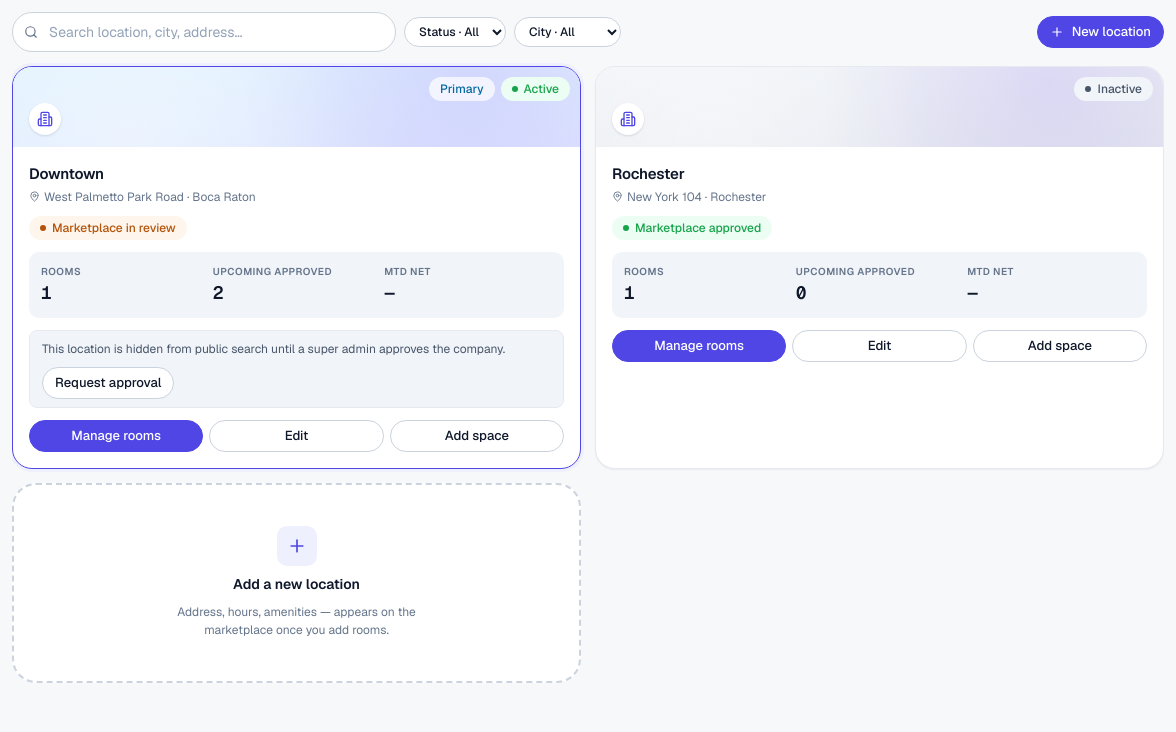
Test: LocationList › shows corrected card metrics, actions, and functional filters
Check: the text "Downtown" is shown, box top-left (29, 164), bottom-right (104, 183)
Check: the text "Upcoming approved" below "Marketplace in review" is shown, box top-left (213, 264), bottom-right (332, 278)
Select "Inactive" in the dropdown named "Filter locations by status" at (455, 32), box top-left (404, 17), bottom-right (506, 47)
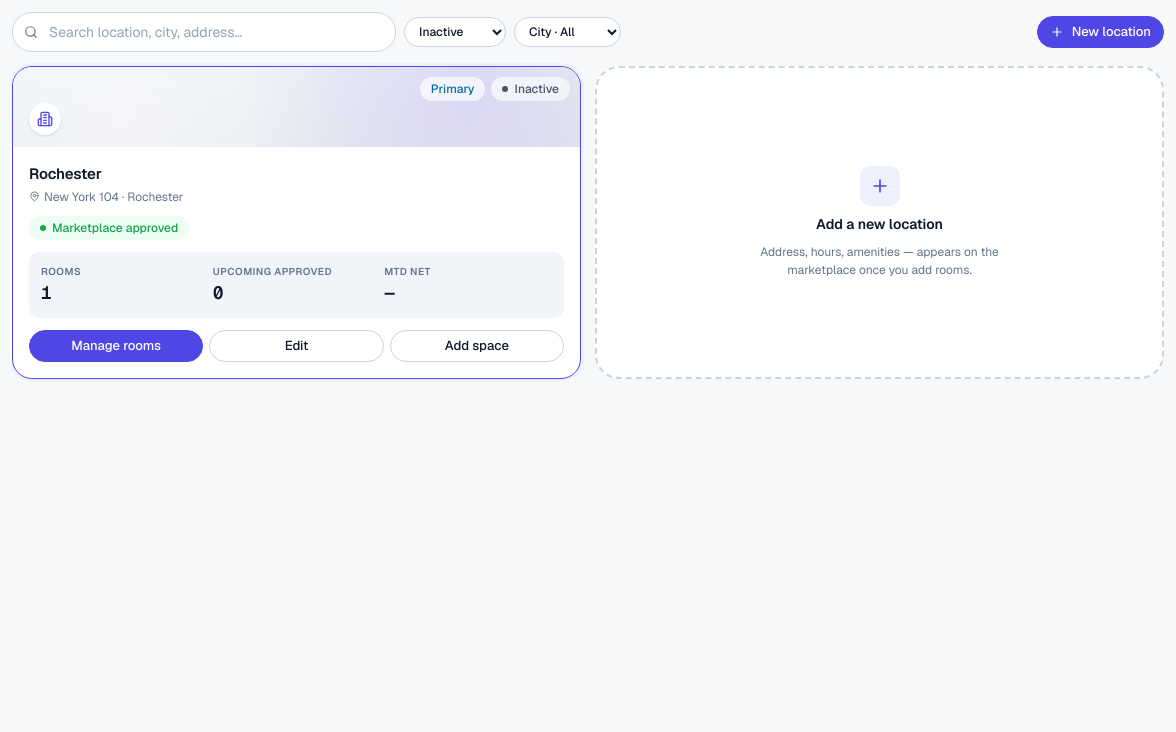
Check: the text "Rochester" is shown, box top-left (29, 164), bottom-right (102, 183)
Check: the text "Downtown" is gone
Select "Status · All" in the dropdown named "Filter locations by status" at (455, 32), box top-left (404, 17), bottom-right (506, 47)
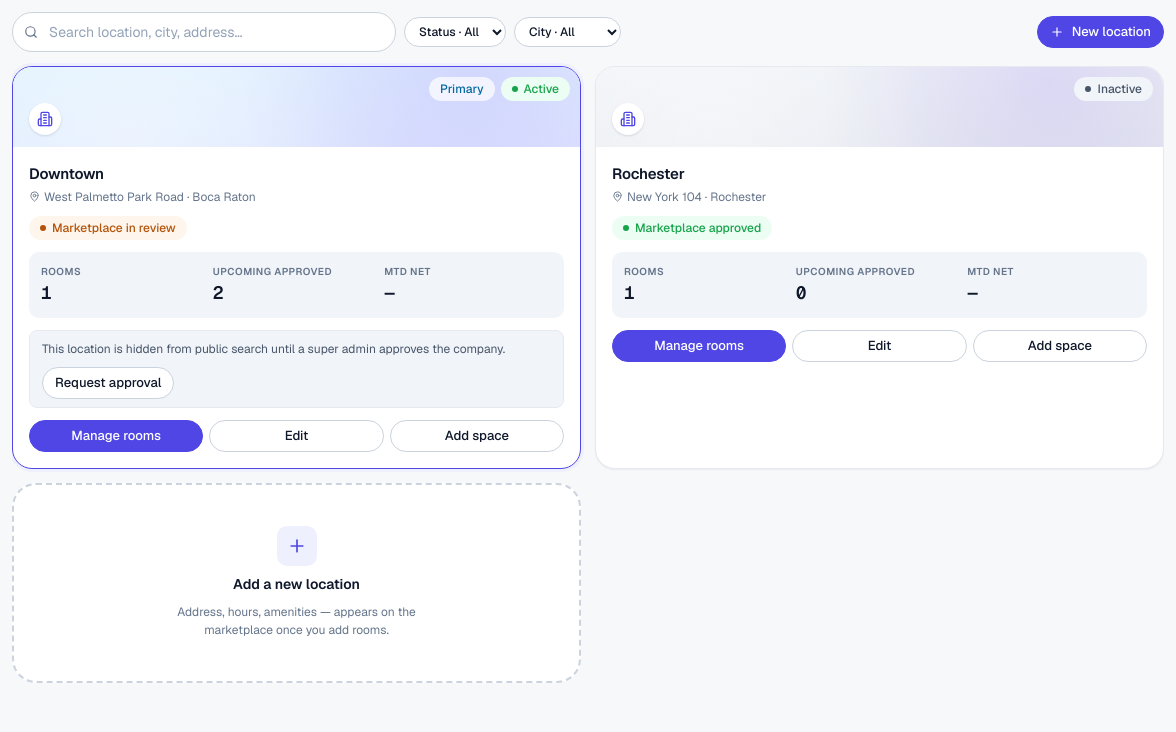
Select "Boca Raton" in the dropdown named "Filter locations by city" at (568, 32), box top-left (514, 17), bottom-right (621, 47)
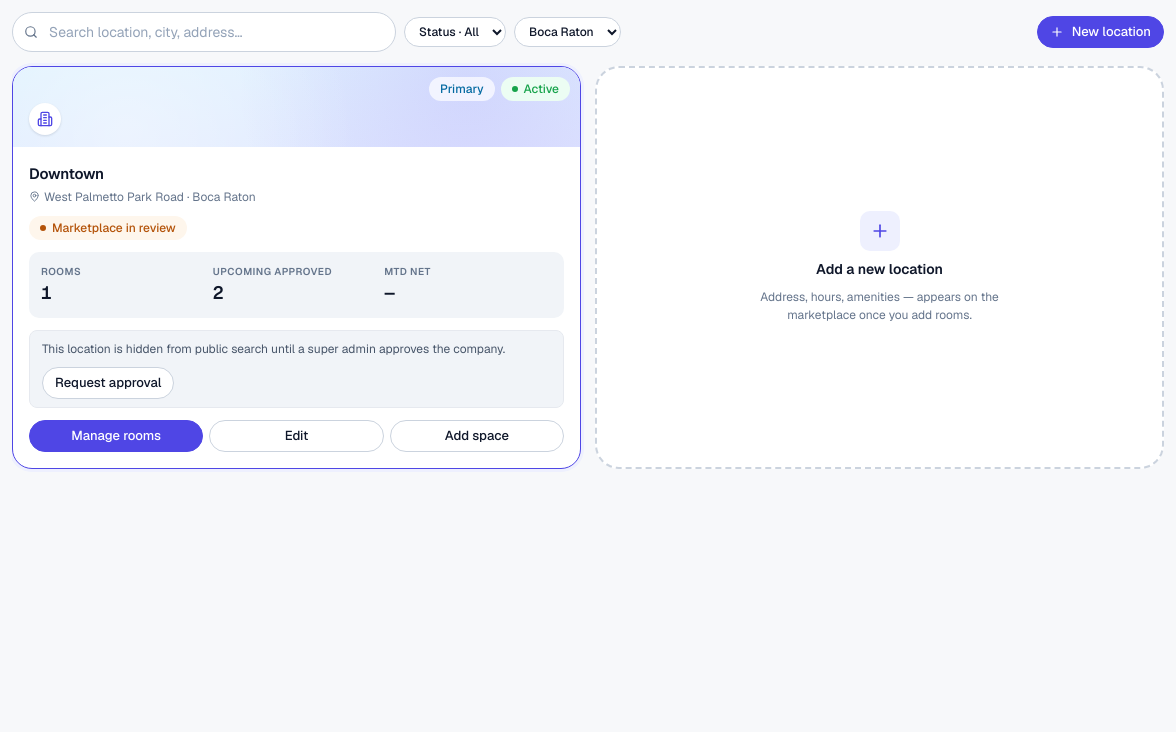
Check: the text "Downtown" is shown, box top-left (29, 164), bottom-right (104, 183)
Check: the text "Rochester" is gone
